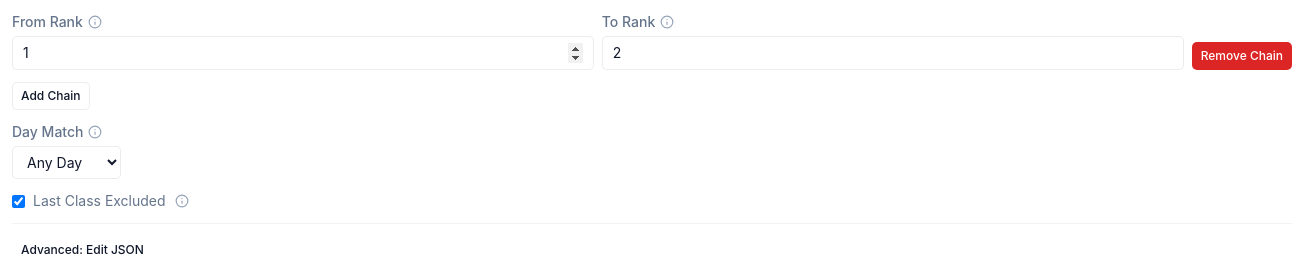
Test: rank_chain adds and removes chain rows
Expected: the number field labelled "From Rank" holds "1", [12,36,594,70]
Expected: the number field labelled "To Rank" holds "2", [602,36,1184,70]
Click the button "Remove Chain": [1242, 56] box [1192,42,1292,70]
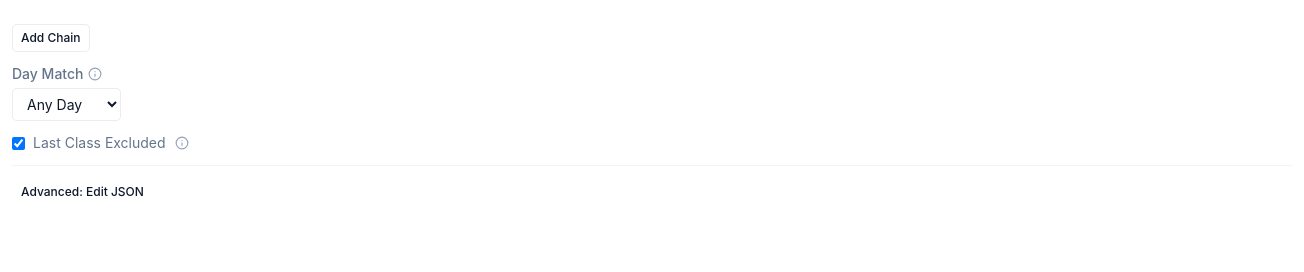
Expected: the label "From Rank" is gone
Click the button "Add Chain": [51, 38] box [12,24,90,52]
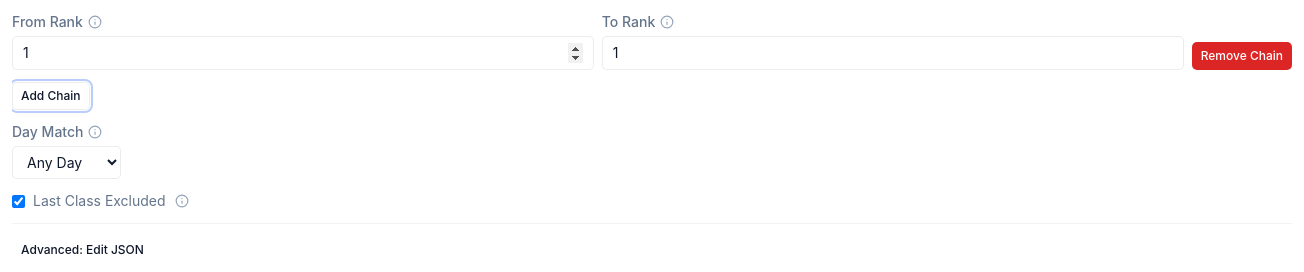
Expected: the number field labelled "From Rank" is shown, [12,36,594,70]
Expected: the number field labelled "To Rank" is shown, [602,36,1184,70]
